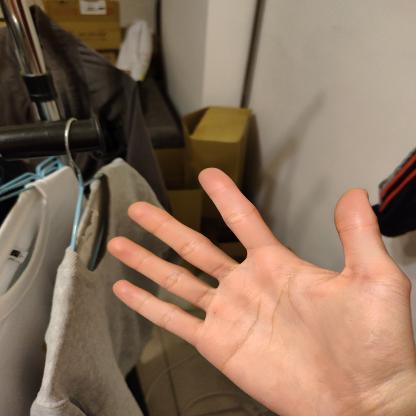bare_hand: (93, 159, 415, 415)
